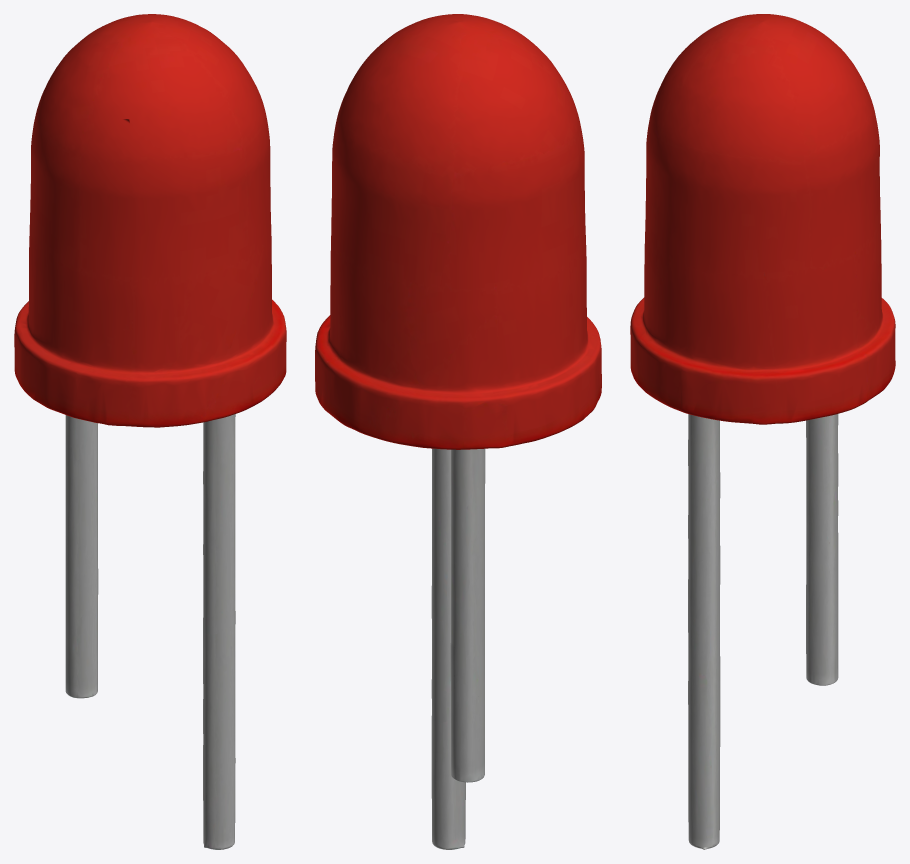
Rendered from led.glb.
The picture shows the model from 3 angles, left to right: view 1: azimuth 30°, elevation 25°; view 2: azimuth 150°, elevation 25°; view 3: azimuth 270°, elevation 25°; orthographic projection. The views are drawn at different scales.
Visible parts, largest first — view 1: tripo_node_63fd301c-9d7e-4ab7-8ae0-7a8c27a9cdef; view 2: tripo_node_63fd301c-9d7e-4ab7-8ae0-7a8c27a9cdef; view 3: tripo_node_63fd301c-9d7e-4ab7-8ae0-7a8c27a9cdef.
Boxes of the visible parts, left/top/right/bottom form: tripo_node_63fd301c-9d7e-4ab7-8ae0-7a8c27a9cdef: left=14, top=14, right=286, bottom=849; tripo_node_63fd301c-9d7e-4ab7-8ae0-7a8c27a9cdef: left=315, top=14, right=601, bottom=849; tripo_node_63fd301c-9d7e-4ab7-8ae0-7a8c27a9cdef: left=630, top=14, right=895, bottom=849.
Size of the model in its own units: 0.3045 by 1 by 0.2994.
1 material, 1 textured.
